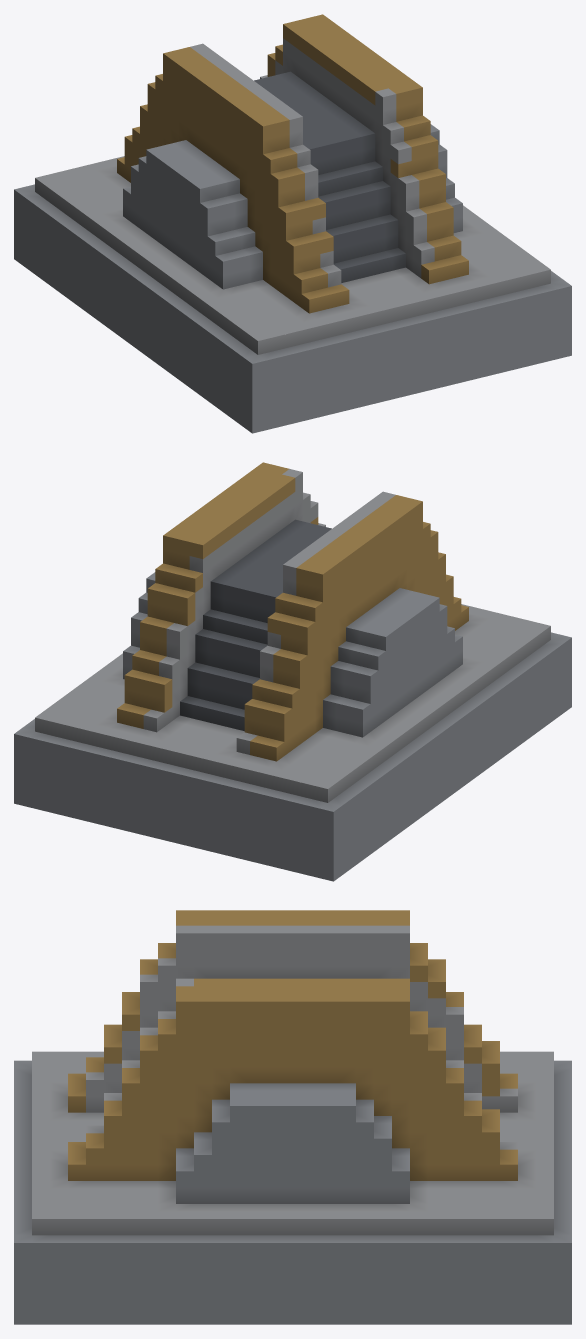
The model's file is generator_large.glb.
3 renders of one model, top to bottom at view 1: azimuth 30°, elevation 25°; view 2: azimuth 150°, elevation 25°; view 3: azimuth 270°, elevation 25°, orthographic. The views are drawn at different scales.
Parts seen in each view (by area): view 1: voxels; view 2: voxels; view 3: voxels.
Part boxes in pixels (x1=…): voxels: x1=14, y1=14, x2=571, y2=433; voxels: x1=14, y1=462, x2=571, y2=881; voxels: x1=14, y1=910, x2=571, y2=1324.
Size of the model in its own units: 1.02 by 0.7257 by 1.32.
